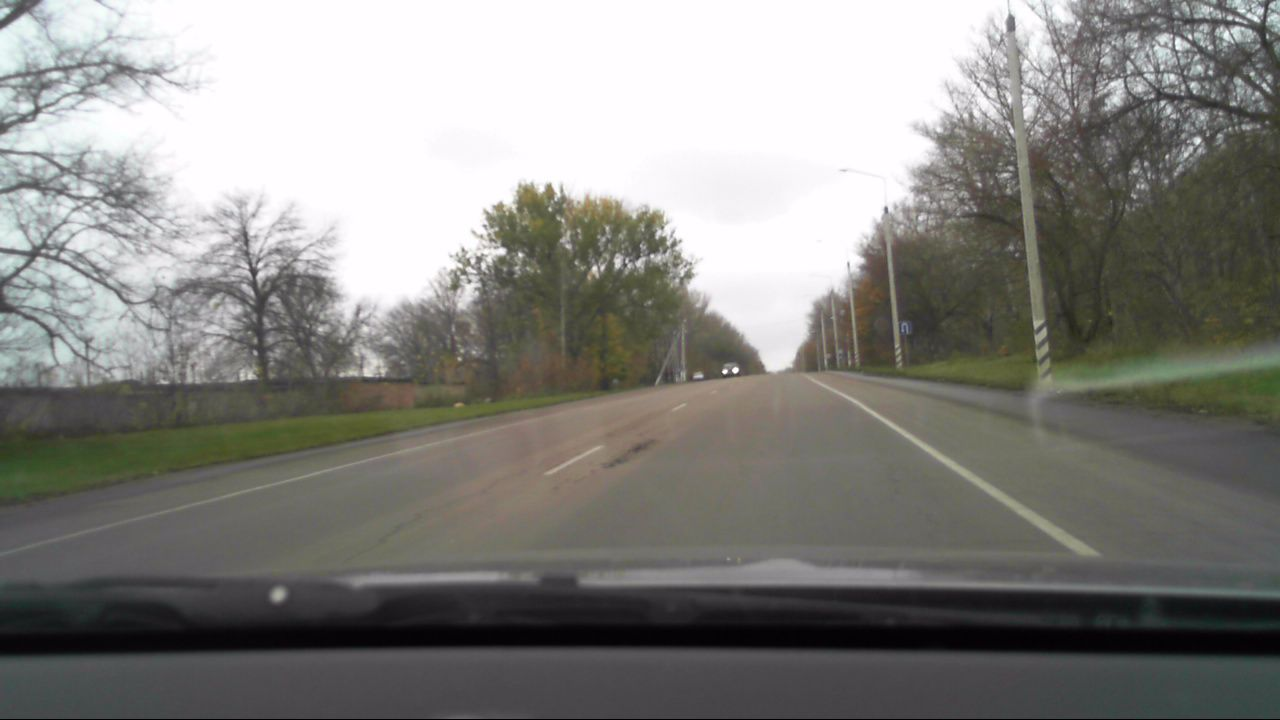U-turn: (900, 323, 911, 334)
